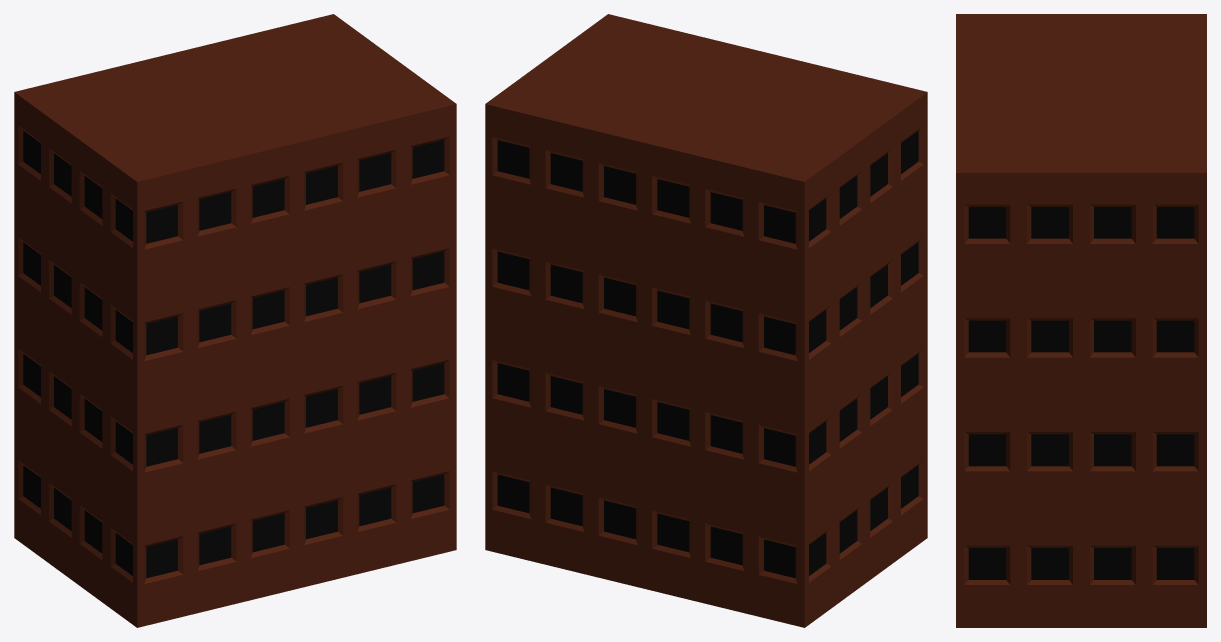
Rendered from Building2.fbx.glb.
3 renders of one model, left to right at view 1: azimuth 30°, elevation 25°; view 2: azimuth 150°, elevation 25°; view 3: azimuth 270°, elevation 25°, orthographic. The views are drawn at different scales.
Visible parts, largest first — view 1: Building2; view 2: Building2; view 3: Building2.
Boxes of the visible parts, x1=… form: Building2: x1=14, y1=14, x2=456, y2=627; Building2: x1=485, y1=14, x2=927, y2=627; Building2: x1=956, y1=14, x2=1206, y2=627.
Size of the model in its own units: 600 by 800 by 400.
